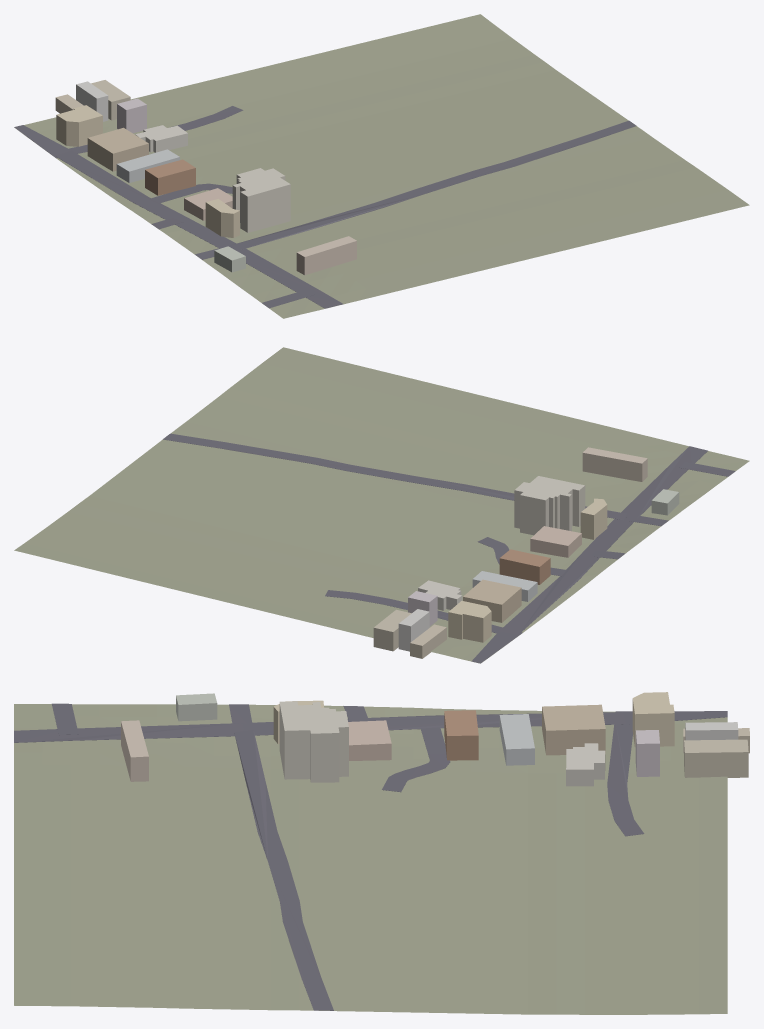
Rendered from chunk_11_8.glb.
3 renders of one model, top to bottom at view 1: azimuth 30°, elevation 25°; view 2: azimuth 150°, elevation 25°; view 3: azimuth 270°, elevation 25°, orthographic. The views are drawn at different scales.
Parts seen in each view (by area): view 1: geometry_14, geometry_16, geometry_1, geometry_15, geometry_2, geometry_9, geometry_12, geometry_6, geometry_22, geometry_11, geometry_5, geometry_0 (+7 smaller); view 2: geometry_14, geometry_1, geometry_15, geometry_16, geometry_9, geometry_2, geometry_12, geometry_22, geometry_6, geometry_10, geometry_3, geometry_11 (+7 smaller); view 3: geometry_14, geometry_16, geometry_1, geometry_2, geometry_22, geometry_15, geometry_3, geometry_17, geometry_12, geometry_6, geometry_10, geometry_5 (+7 smaller).
Part boxes in pixels (x1,y1,x2,y2): geometry_14: (21,14,749,318); geometry_16: (229,120,636,249); geometry_1: (232,168,290,232); geometry_15: (14,125,236,248); geometry_2: (87,127,148,171); geometry_9: (296,236,356,275); geometry_12: (56,105,102,146); geometry_6: (145,159,195,195); geometry_22: (233,248,343,308); geometry_11: (205,199,239,237); geometry_5: (116,149,179,182); geometry_0: (135,125,187,152); geometry_14: (14,347,749,663); geometry_1: (514,476,585,535); geometry_15: (471,517,636,663); geometry_16: (163,433,626,519); geometry_9: (582,447,647,481); geometry_2: (463,579,521,622); geometry_12: (448,601,491,642); geometry_22: (621,446,707,518); geometry_6: (499,549,550,584); geometry_10: (530,526,581,557); geometry_3: (373,609,411,651); geometry_11: (580,498,607,539); geometry_14: (14,704,727,1014); geometry_16: (234,729,333,1010); geometry_1: (279,701,348,782); geometry_2: (542,704,605,755); geometry_22: (14,723,243,742); geometry_15: (242,711,727,735); geometry_3: (684,739,748,777); geometry_17: (607,711,644,836); geometry_12: (632,692,674,747); geometry_6: (444,710,478,760); geometry_10: (348,720,391,760); geometry_5: (499,714,534,765).
Size of the model in its own units: 250 by 20.85 by 258.
